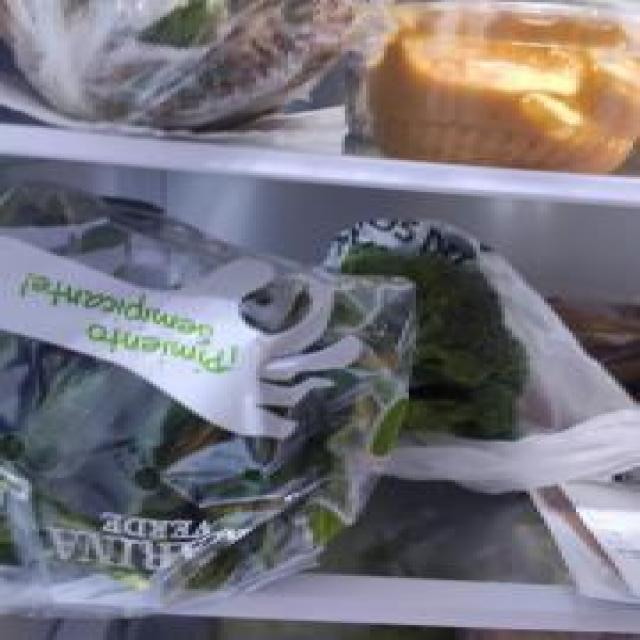broccoli: (343, 247, 532, 440)
humus: (366, 0, 640, 175)
pineapple: (0, 0, 359, 130)
